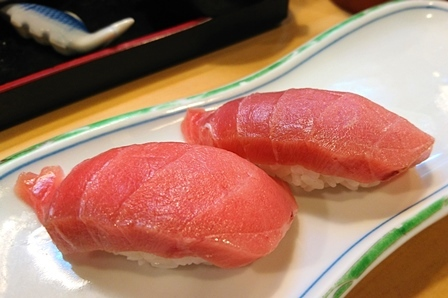medium_fatty_tuna: (31, 142, 298, 280), (180, 86, 431, 190)
